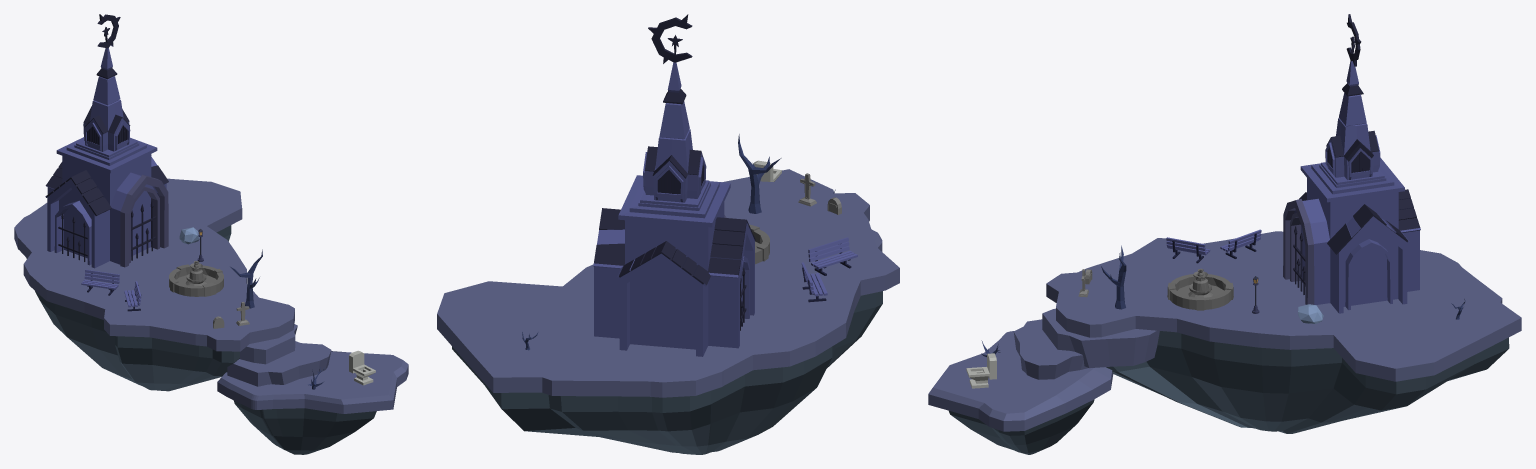
The model's file is Храм с домом.fbx.
3 views of the same model, side by side, from view 1: azimuth 30°, elevation 25°; view 2: azimuth 150°, elevation 25°; view 3: azimuth 270°, elevation 25° (orthographic). The views are drawn at different scales.
Visible parts, largest first — view 1: Cube.090, Loft_shape.001, Cube.088, Cube.089, Circle.002, Cube.053, Cube.091, Cube.062, Cube.048, Cube.092, Cylinder.002; view 2: Cube.090, Loft_shape.001, Cube.050, Cube.088, Cylinder.002, Circle.002; view 3: Cube.090, Loft_shape.001, Cube.088, Cube.053, Cube.089, Circle.002, Cube.062.
Boxes of the visible parts, x1,y1,x2,y2 form: Cube.090: (14,178,294,391); Loft_shape.001: (45,14,168,268); Cube.088: (217,351,408,454); Cube.089: (227,341,331,386); Circle.002: (169,261,223,296); Cube.053: (239,324,297,364); Cube.091: (131,200,156,260); Cube.062: (349,350,375,385); Cube.048: (81,269,119,289); Cube.092: (58,213,87,261); Cylinder.002: (230,249,262,308); Cube.090: (437,181,899,454); Loft_shape.001: (593,14,755,356); Cube.050: (808,237,857,269); Cube.088: (722,169,882,251); Cylinder.002: (738,134,781,213); Circle.002: (749,224,769,264); Cube.090: (1046,231,1521,433); Loft_shape.001: (1283,14,1420,313); Cube.088: (928,331,1113,454); Cube.053: (1042,308,1159,368); Cube.089: (1013,319,1087,379); Circle.002: (1167,268,1233,310); Cube.062: (966,353,996,388).
Size of the model in its own units: 905 by 1241 by 1651.
